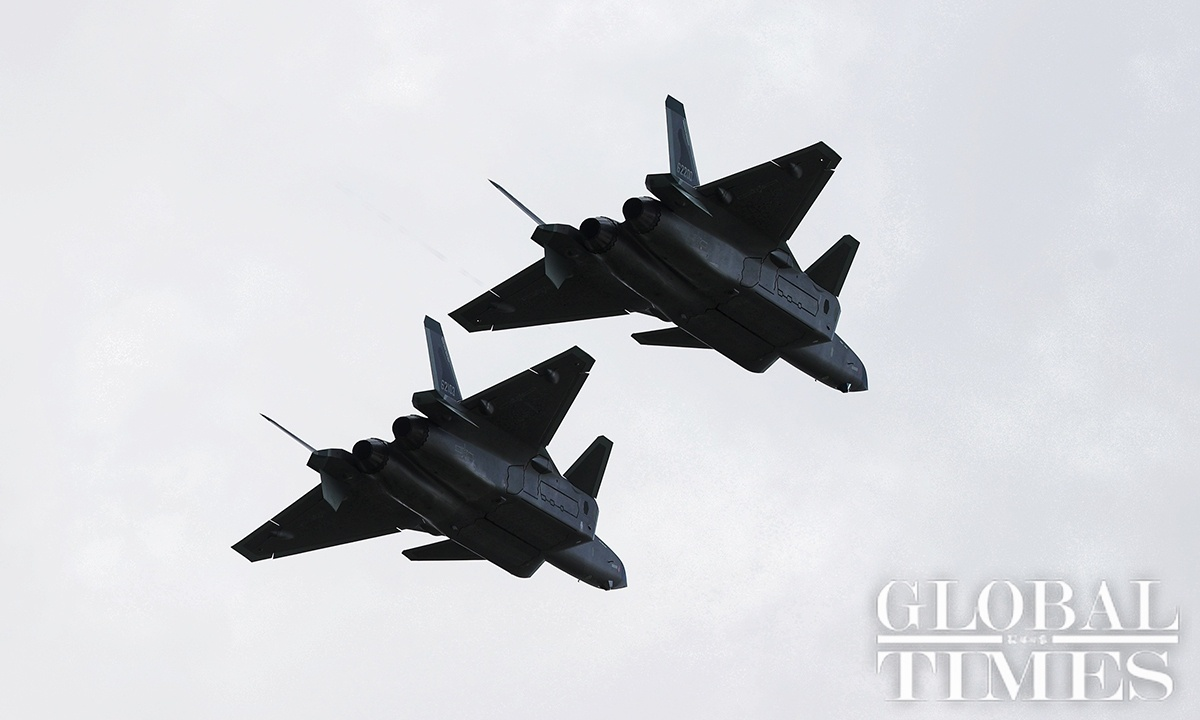J20: (447, 93, 869, 394), (230, 314, 628, 592)
